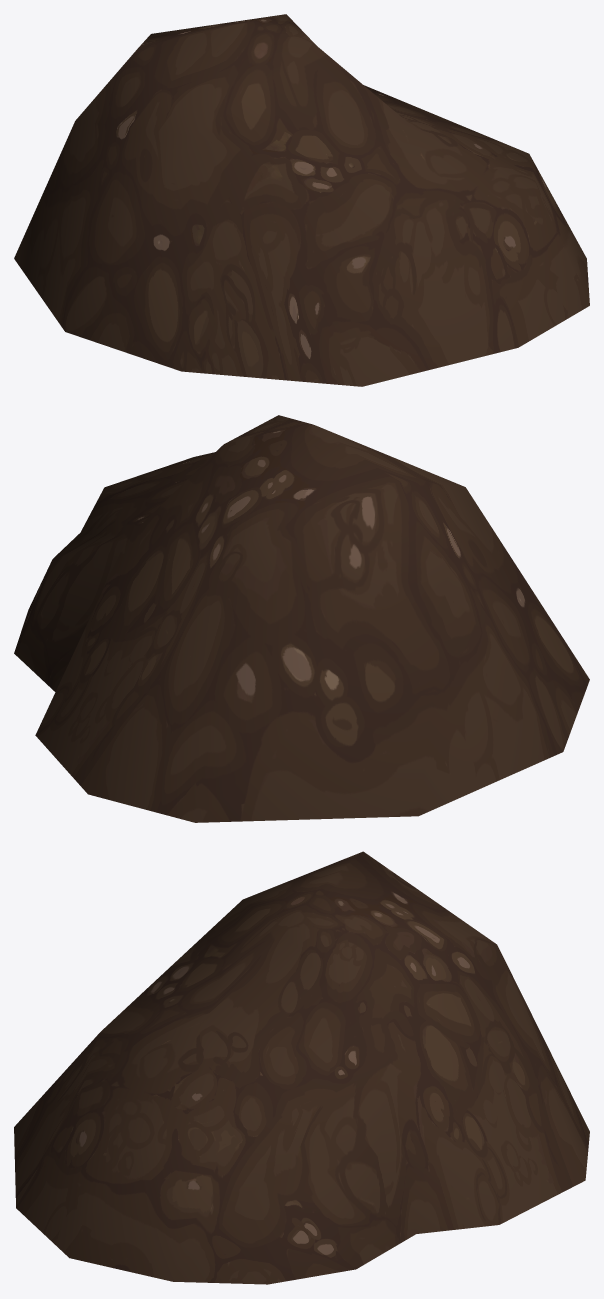
Rendered from SM_PROP_dirtpile_dungeon_03.fbx.
3 views of the same model, one above another, from view 1: azimuth 30°, elevation 25°; view 2: azimuth 150°, elevation 25°; view 3: azimuth 270°, elevation 25° (orthographic). The views are drawn at different scales.
Parts seen in each view (by area): view 1: SM_PROP_dirtpile_dungeon_03; view 2: SM_PROP_dirtpile_dungeon_03; view 3: SM_PROP_dirtpile_dungeon_03.
Boxes of the visible parts, bbox=[...] form: SM_PROP_dirtpile_dungeon_03: bbox=[14, 14, 589, 386]; SM_PROP_dirtpile_dungeon_03: bbox=[14, 415, 589, 822]; SM_PROP_dirtpile_dungeon_03: bbox=[14, 851, 589, 1284].
Size of the model in its own units: 181 by 90.54 by 181.
